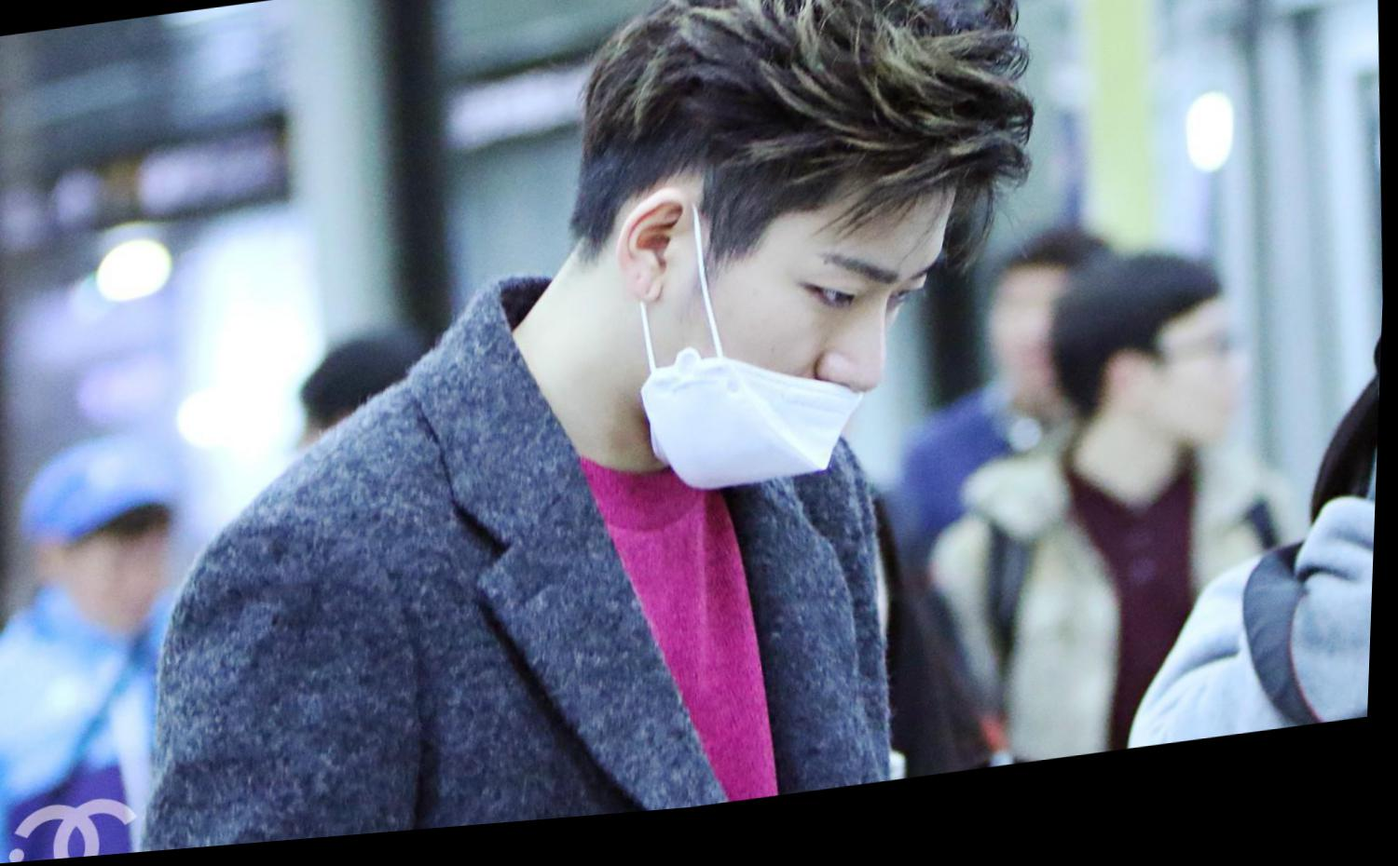NONE: (1134, 325, 1264, 470)
WRONG: (615, 170, 945, 511), (30, 517, 178, 662)
